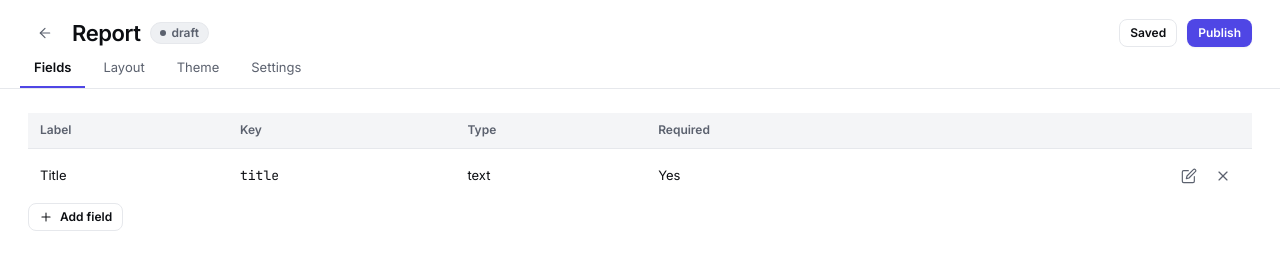
Test case: FormEditor › Publish surfaces a 400 validation error inline
Expected: the heading "Report" is shown, [72, 16, 140, 50]
Click the button "Publish" at (1220, 33), box [1187, 19, 1252, 47]
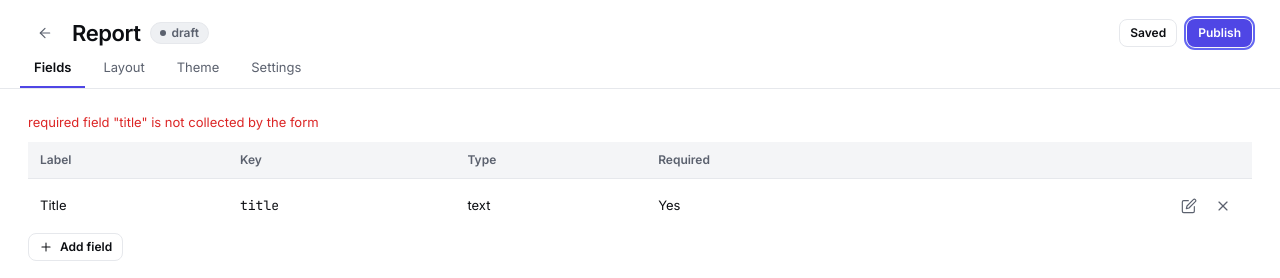
Now the text "required field \"title\" is not collected by the form" is shown, box [28, 114, 319, 130]
